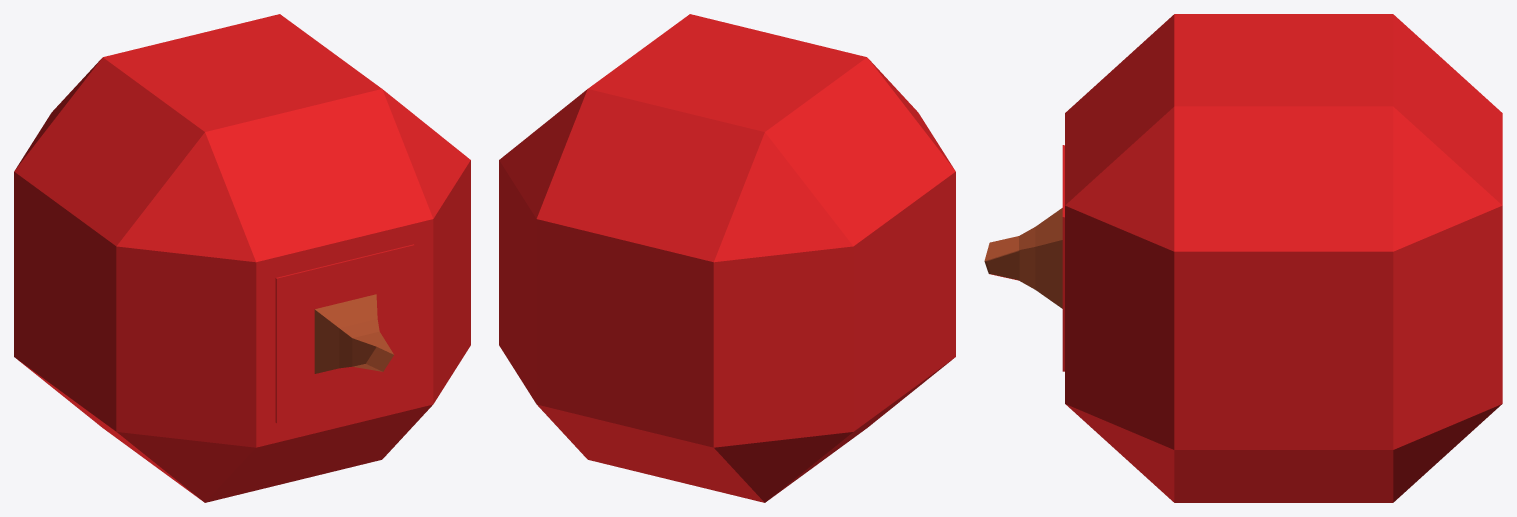
File: Food.fbx
3 renders of one model, left to right at view 1: azimuth 30°, elevation 25°; view 2: azimuth 150°, elevation 25°; view 3: azimuth 270°, elevation 25°, orthographic. The views are drawn at different scales.
Parts seen in each view (by area): view 1: Cube; view 2: Cube; view 3: Cube.
Boxes of the visible parts, box(x1,y1,x2,y2) form: Cube: box(14, 14, 470, 502); Cube: box(499, 14, 955, 502); Cube: box(984, 14, 1502, 502).
Size of the model in its own units: 200 by 200 by 237.
